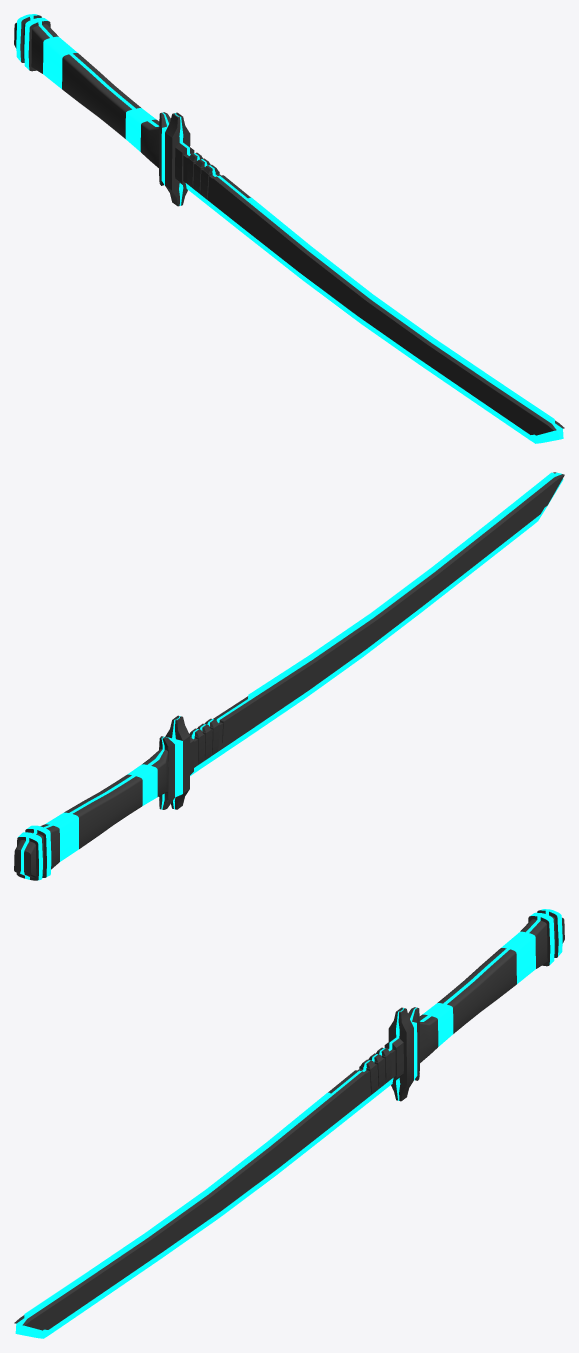
The model's file is sword.fbx.
3 renders of one model, top to bottom at view 1: azimuth 30°, elevation 25°; view 2: azimuth 150°, elevation 25°; view 3: azimuth 330°, elevation 25°, orthographic.
Visible parts, largest first — view 1: Box001; view 2: Box001; view 3: Box001.
Part boxes in pixels (x1,y1,x2,y2): Box001: [14, 14, 564, 443]; Box001: [14, 472, 564, 880]; Box001: [14, 909, 564, 1338].
Size of the model in its own units: 67.8 by 252 by 2777.
